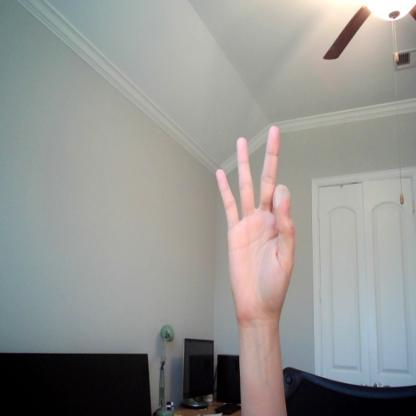nine: (216, 122, 300, 326)
